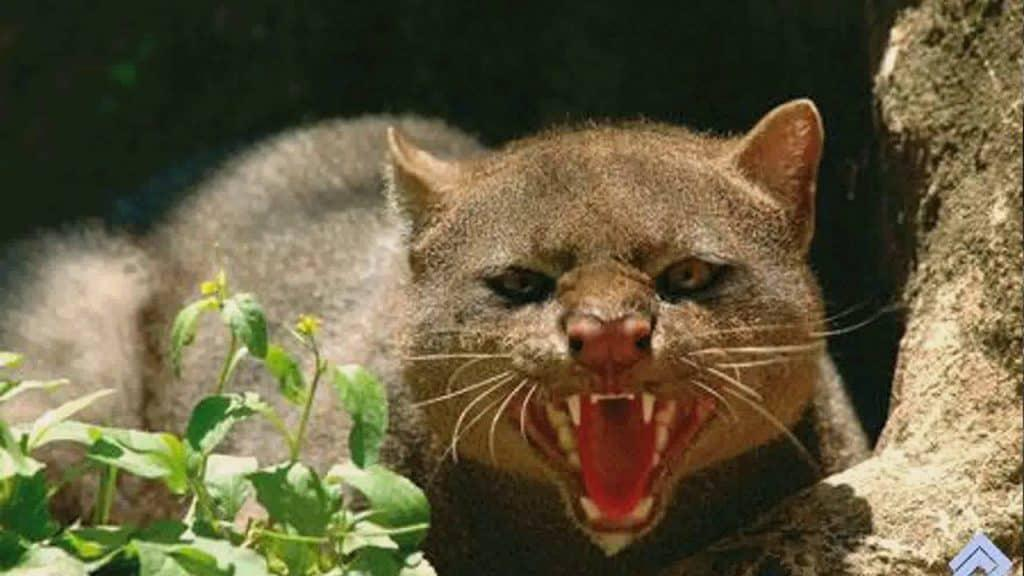Jaguarundi: (52, 91, 912, 567)
